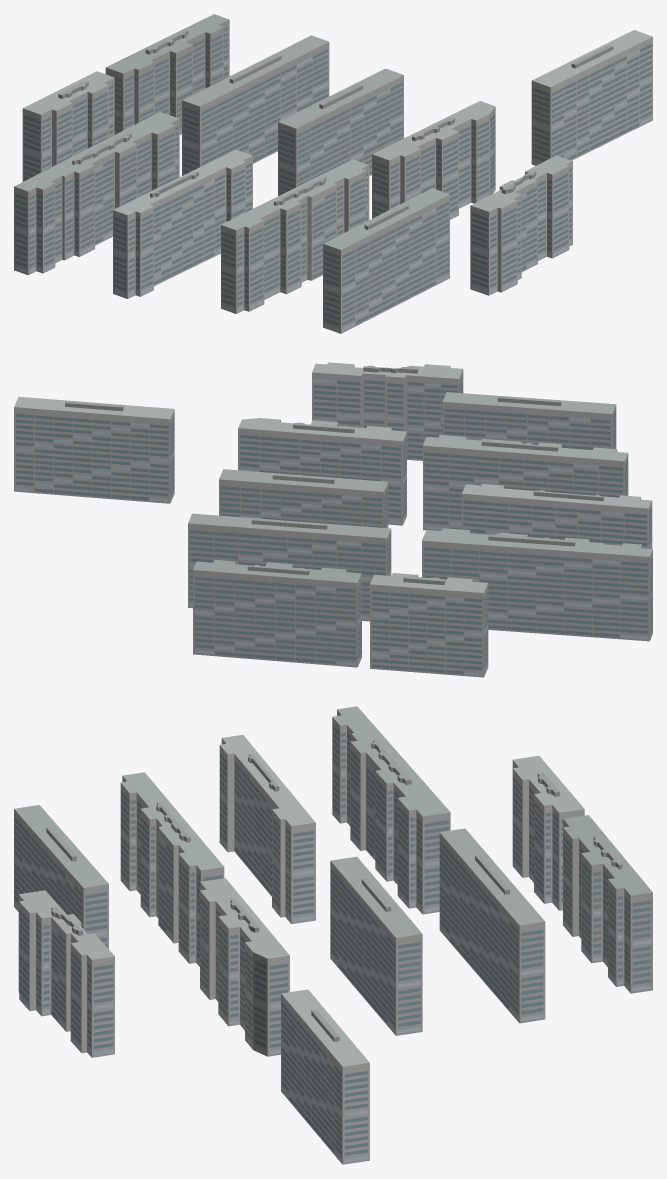
The model's file is apt-a13987306.glb.
The picture shows the model from 3 angles, top to bottom: view 1: azimuth 30°, elevation 25°; view 2: azimuth 150°, elevation 25°; view 3: azimuth 270°, elevation 25°; orthographic projection. The views are drawn at different scales.
Parts seen in each view (by area): view 1: apt-a13987306; view 2: apt-a13987306; view 3: apt-a13987306.
Part boxes in pixels (x1=…): apt-a13987306: x1=14, y1=14, x2=652, y2=333; apt-a13987306: x1=14, y1=362, x2=652, y2=677; apt-a13987306: x1=14, y1=706, x2=652, y2=1164.
Size of the model in its own units: 361 by 47.81 by 270.
